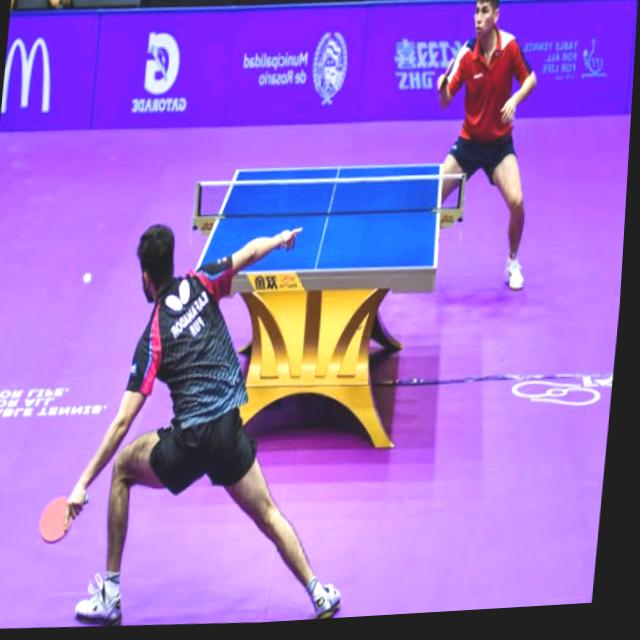TT Net: (191, 172, 467, 226)
TT Racket: (34, 486, 79, 554), (436, 54, 456, 91)
TT Table: (193, 162, 442, 274)
